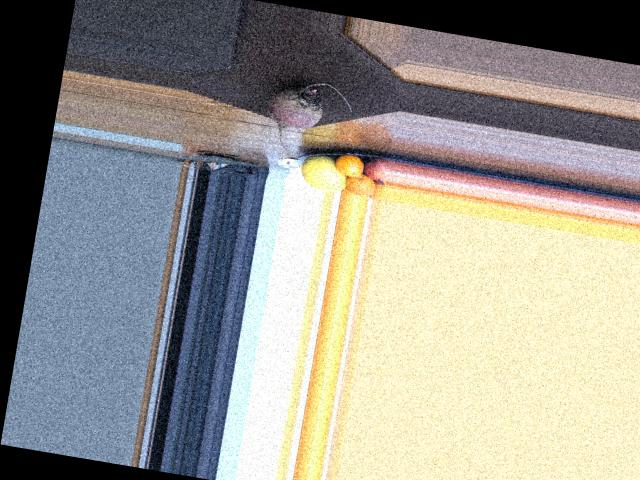beet: (260, 74, 355, 160)
